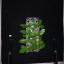leaf: (19, 38, 28, 44), (28, 26, 34, 34), (30, 22, 38, 28), (20, 48, 28, 53), (30, 38, 38, 43), (38, 44, 46, 49), (39, 29, 45, 35), (20, 24, 28, 28), (20, 30, 28, 34), (20, 45, 28, 49), (38, 19, 42, 27), (32, 42, 37, 48), (30, 32, 37, 36), (38, 25, 44, 29), (38, 36, 42, 42), (28, 47, 36, 50), (37, 44, 41, 49), (28, 33, 30, 42), (37, 41, 43, 44), (23, 34, 28, 37), (37, 31, 40, 35), (26, 50, 28, 54)
